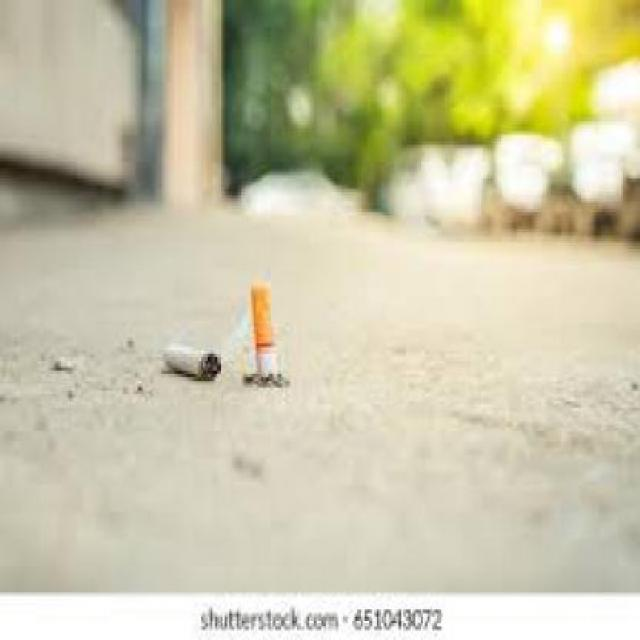cigarette: (222, 272, 288, 408), (161, 333, 217, 384)
